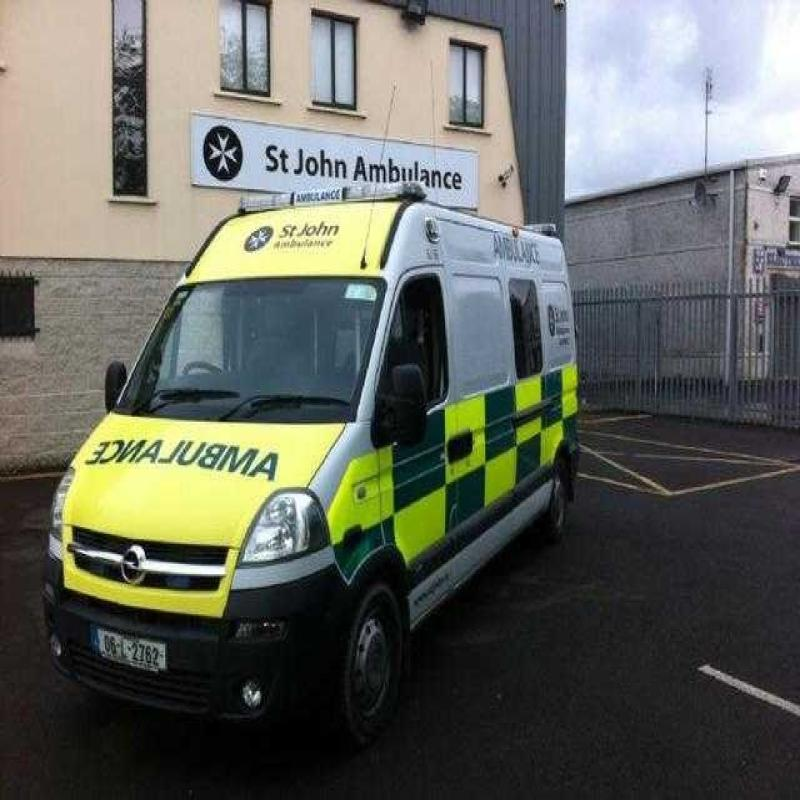AmbulanceSiren: (222, 169, 446, 213)
